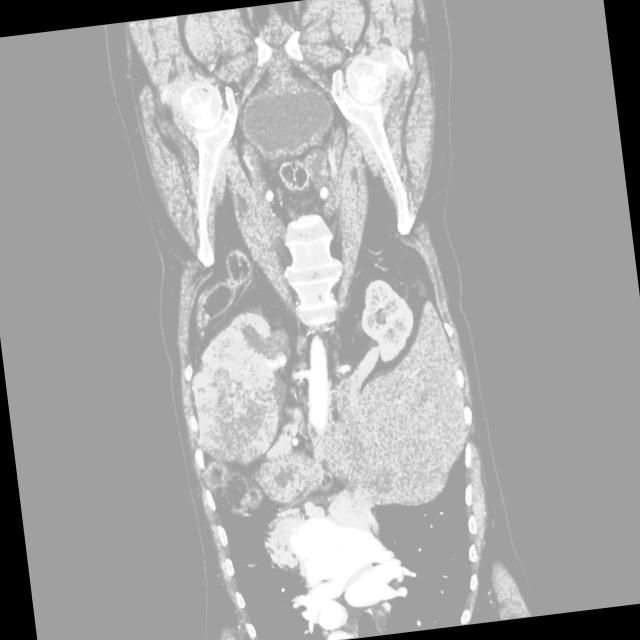TUMOR: (135, 232, 530, 465)
